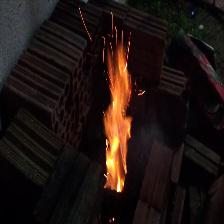fire: (97, 31, 139, 193)
